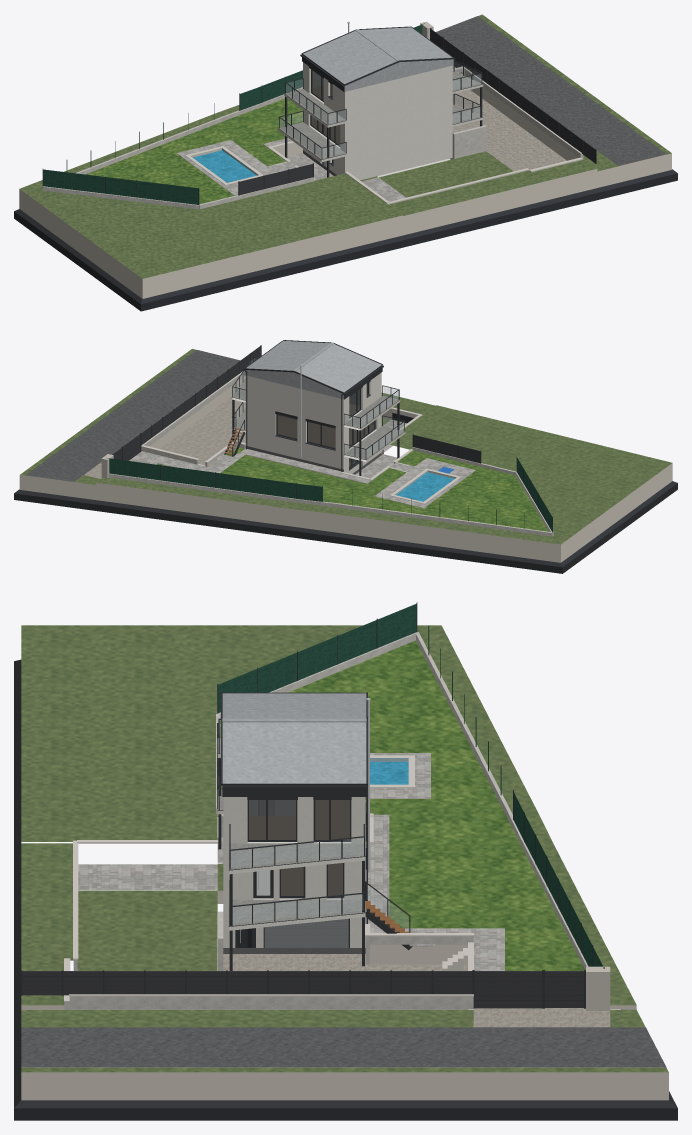
The model's file is dum_b.glb.
The picture shows the model from 3 angles, top to bottom: view 1: azimuth 30°, elevation 25°; view 2: azimuth 150°, elevation 25°; view 3: azimuth 270°, elevation 25°; orthographic projection. The views are drawn at different scales.
Visible parts, largest first — view 1: Teren_trava_okoli, Teren_rez, B_ext_omitka, Teren_asfalt, Teren_podstava, Teren_trava, B_ext_strecha, Teren_beton, Teren_sit_zelena, Teren_dlazba_dvur, Teren_plot_panel, B_ext_antracit (+7 smaller); view 2: Teren_trava_okoli, Teren_rez, Teren_trava, Teren_podstava, B_ext_omitka, Teren_asfalt, B_ext_strecha, Teren_sit_zelena, Teren_dlazba, Teren_beton, B_ext_antracit, Teren_dlazba_dvur (+9 smaller); view 3: Teren_trava_okoli, Teren_trava, Teren_asfalt, Teren_rez, Teren_podstava, Teren_plot_panel, B_ext_strecha, Teren_beton, Teren_dlazba, Teren_sit_zelena, B_ext_omitka, B_ext_antracit (+11 smaller).
Part boxes in pixels (<box>): Teren_trava_okoli: <box>20,14,671,278</box>; Teren_rez: <box>19,73,671,298</box>; B_ext_omitka: <box>278,62,483,180</box>; Teren_asfalt: <box>436,16,666,165</box>; Teren_podstava: <box>14,169,677,311</box>; Teren_trava: <box>85,98,302,204</box>; B_ext_strecha: <box>303,27,453,91</box>; Teren_beton: <box>42,69,583,209</box>; Teren_sit_zelena: <box>43,24,423,204</box>; Teren_dlazba_dvur: <box>448,41,566,171</box>; Teren_plot_panel: <box>239,29,595,194</box>; B_ext_antracit: <box>278,26,482,177</box>; Teren_trava_okoli: <box>20,349,672,544</box>; Teren_rez: <box>19,367,672,562</box>; Teren_trava: <box>156,446,548,531</box>; Teren_podstava: <box>14,412,677,573</box>; B_ext_omitka: <box>231,372,405,473</box>; Teren_asfalt: <box>26,350,239,481</box>; B_ext_strecha: <box>245,340,381,399</box>; Teren_sit_zelena: <box>107,457,552,531</box>; Teren_dlazba: <box>129,420,475,507</box>; Teren_beton: <box>108,372,553,536</box>; B_ext_antracit: <box>224,340,405,475</box>; Teren_dlazba_dvur: <box>84,396,245,478</box>; Teren_trava_okoli: <box>21,625,668,1072</box>; Teren_trava: <box>219,640,584,970</box>; Teren_asfalt: <box>21,1027,665,1067</box>; Teren_rez: <box>21,798,668,1100</box>; Teren_podstava: <box>14,659,677,1120</box>; Teren_plot_panel: <box>22,724,583,1008</box>; B_ext_strecha: <box>222,693,366,783</box>; Teren_beton: <box>64,632,588,1009</box>; Teren_dlazba: <box>78,753,504,970</box>; Teren_sit_zelena: <box>218,603,602,966</box>; B_ext_omitka: <box>217,754,365,947</box>; B_ext_antracit: <box>217,692,412,970</box>.
Size of the model in its own units: 50.3 by 12.28 by 31.57.
Materials: 36 (16 with a texture image).
